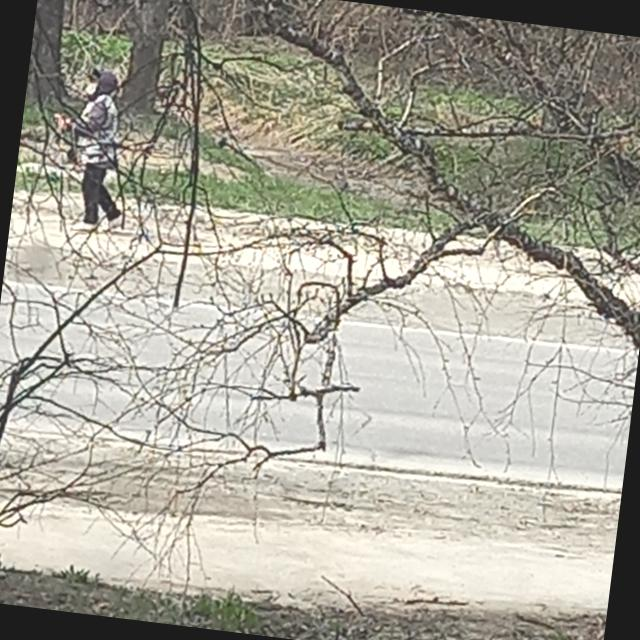person: (45, 64, 140, 234)
